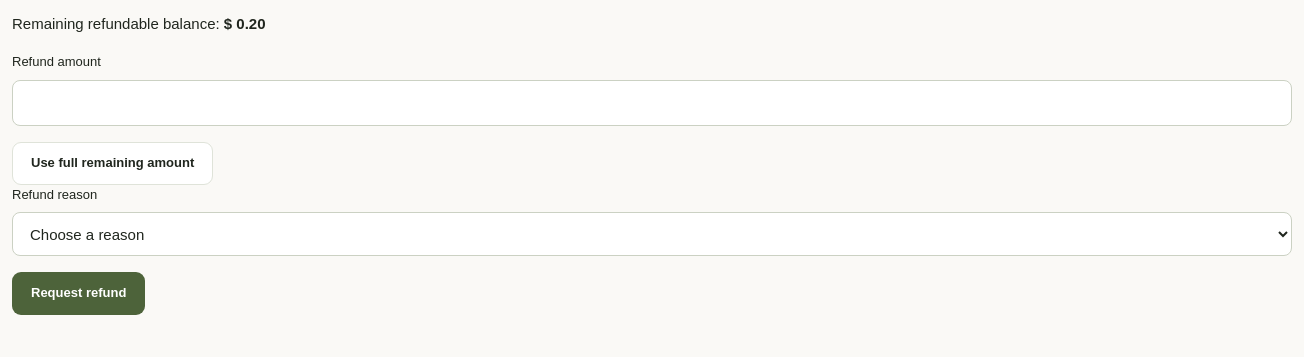
refund safety › blocks invalid or excessive amount 0 before sending
Type "0" into the field labelled "Refund amount". click: (652, 103)
box: [12, 80, 1292, 126]
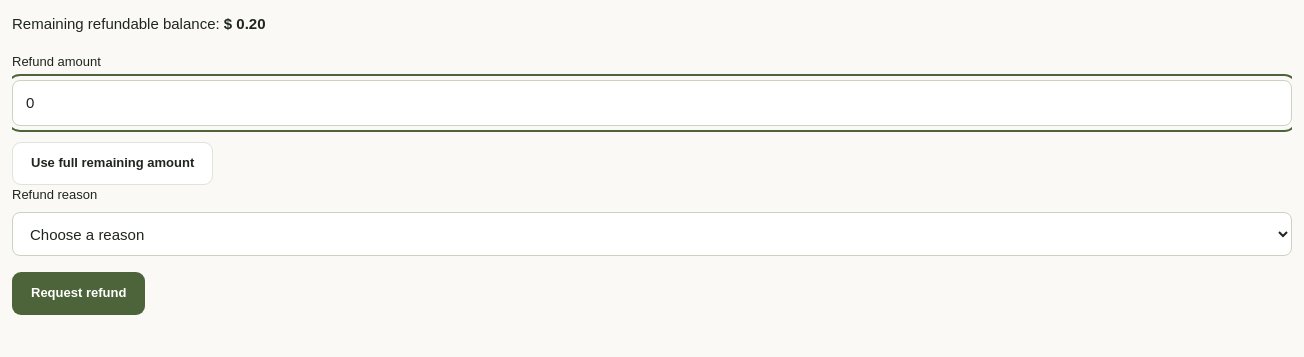
Select "Customer request" in the dropdown labelled "Refund reason". click: (652, 234)
box: [12, 212, 1292, 256]
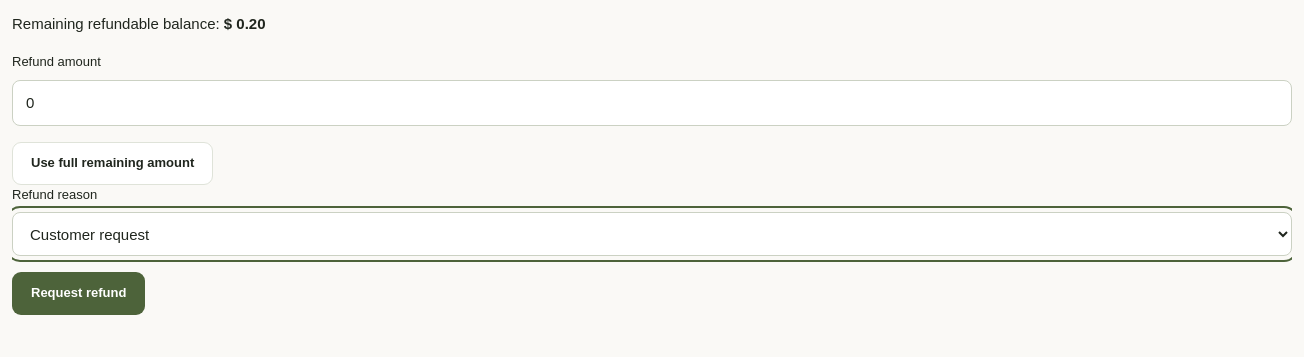
Click the button "Request refund". click: click(79, 294)
box: [12, 272, 145, 315]
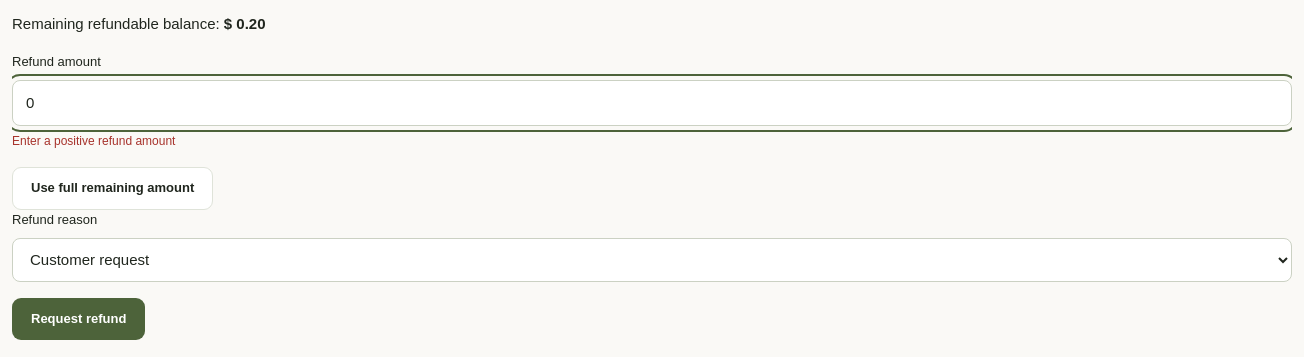
Result: the message reads "Enter a positive refund amount" at [12, 134, 175, 148]
